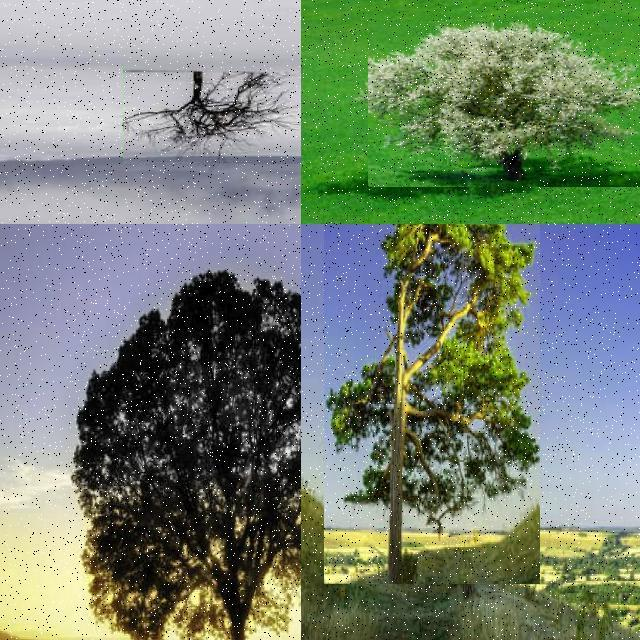tree: (75, 260, 302, 640), (324, 224, 540, 584), (368, 21, 640, 187), (123, 64, 301, 164), (600, 0, 640, 32)
